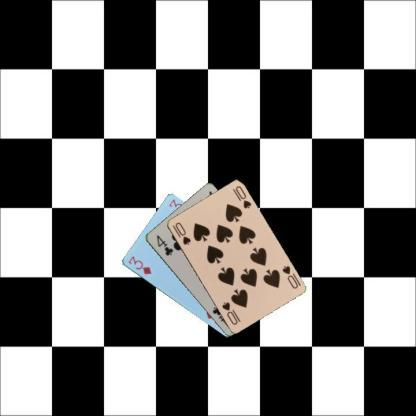10s: (170, 219, 192, 247), (279, 263, 299, 290)
3d: (126, 254, 152, 276)
4c: (154, 232, 174, 257)
